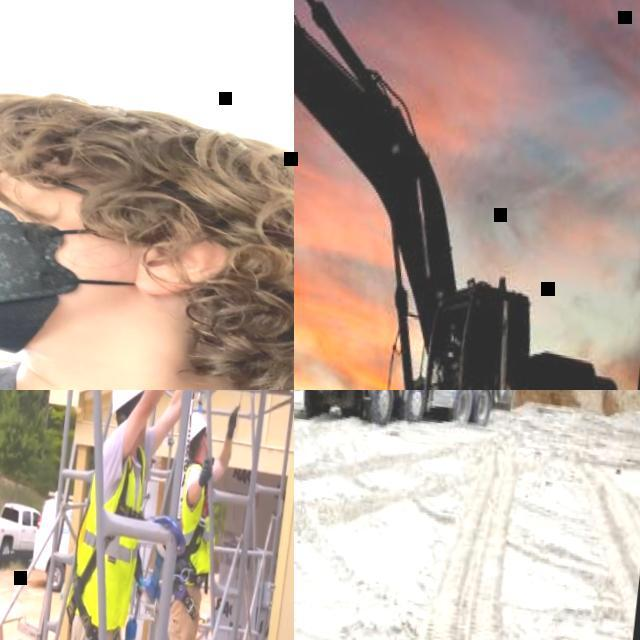helmet: (108, 390, 149, 416), (189, 408, 207, 439)
vest: (61, 434, 150, 632), (171, 461, 223, 584)
